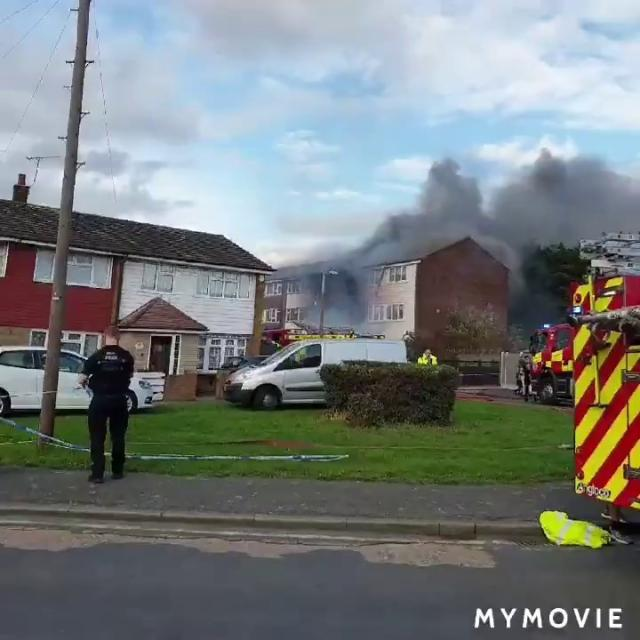Smoke: (365, 128, 640, 264), (272, 194, 382, 336)
